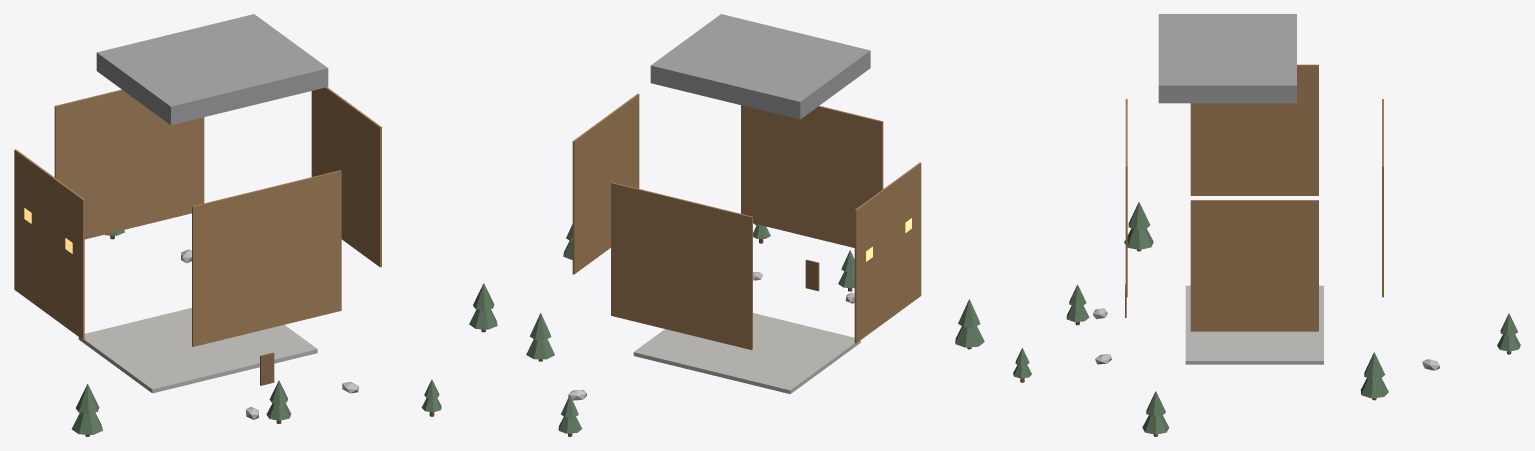
The model's file is brown-block-building_004_v1.glb.
The picture shows the model from 3 angles, left to right: view 1: azimuth 30°, elevation 25°; view 2: azimuth 150°, elevation 25°; view 3: azimuth 270°, elevation 25°; orthographic projection. The views are drawn at different scales.
Visible parts, largest first — view 1: brown-block-building; view 2: brown-block-building; view 3: brown-block-building.
Part boxes in pixels (box(x1,y1,x2,y2)): brown-block-building: box(14, 14, 497, 436); brown-block-building: box(526, 14, 984, 436); brown-block-building: box(1013, 14, 1520, 436).
Size of the model in its own units: 14.5 by 9.7 by 15.83.
